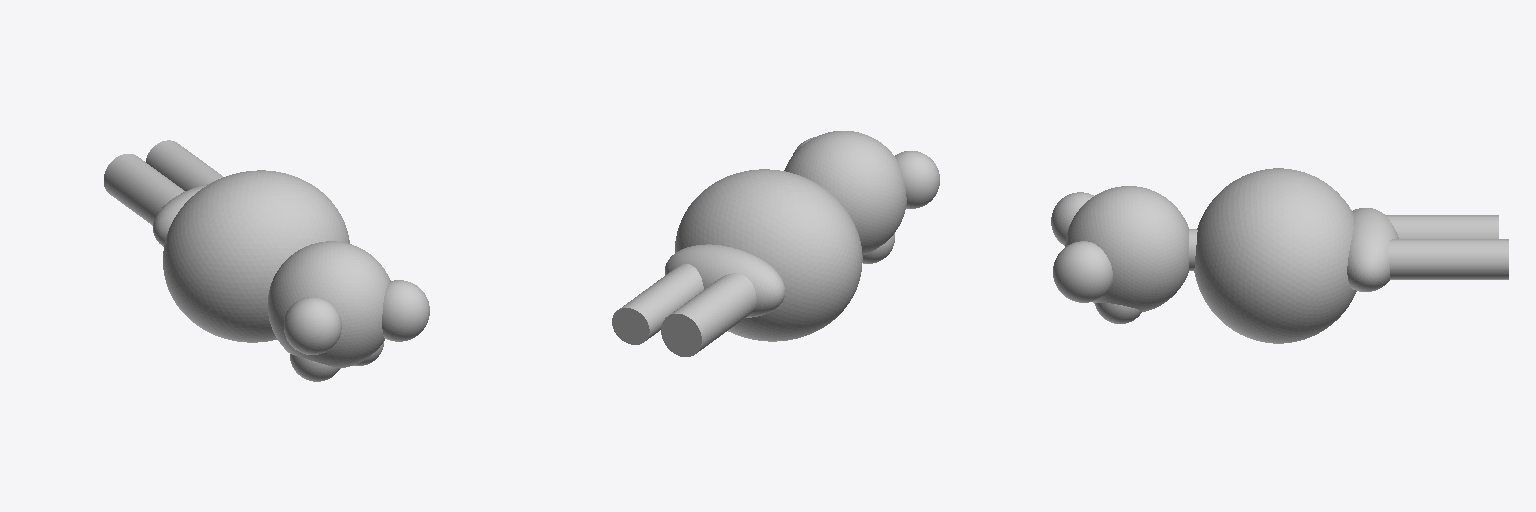
Rendered from barold.obj.
3 renders of one model, left to right at view 1: azimuth 30°, elevation 25°; view 2: azimuth 150°, elevation 25°; view 3: azimuth 270°, elevation 25°, orthographic.
Parts seen in each view (by area): view 1: Object.4, Object.1, Object.8, Object.6, Object.7, Object.9, Object.10, Object.2; view 2: Object.4, Object.1, Object.8, Object.10, Object.9, Object.6; view 3: Object.4, Object.1, Object.9, Object.10, Object.7, Object.8, Object.6, Object.3.
Part boxes in pixels (bbox=[...]): Object.4: bbox=[163, 170, 349, 342]; Object.1: bbox=[268, 241, 390, 368]; Object.8: bbox=[104, 154, 184, 225]; Object.6: bbox=[284, 297, 341, 354]; Object.7: bbox=[382, 280, 429, 341]; Object.9: bbox=[146, 140, 222, 190]; Object.10: bbox=[153, 183, 210, 246]; Object.2: bbox=[290, 354, 339, 381]; Object.4: bbox=[675, 169, 862, 341]; Object.1: bbox=[784, 131, 906, 255]; Object.8: bbox=[661, 273, 756, 356]; Object.10: bbox=[665, 244, 784, 317]; Object.9: bbox=[612, 264, 703, 344]; Object.6: bbox=[895, 151, 939, 208]; Object.4: bbox=[1194, 168, 1356, 343]; Object.1: bbox=[1065, 186, 1188, 311]; Object.9: bbox=[1388, 239, 1508, 279]; Object.10: bbox=[1347, 208, 1398, 291]; Object.7: bbox=[1053, 241, 1112, 302]; Object.8: bbox=[1386, 215, 1498, 238]; Object.6: bbox=[1051, 192, 1093, 245]; Object.3: bbox=[1095, 303, 1141, 323].
Size of the model in its own units: 23.82 by 21.14 by 56.49.